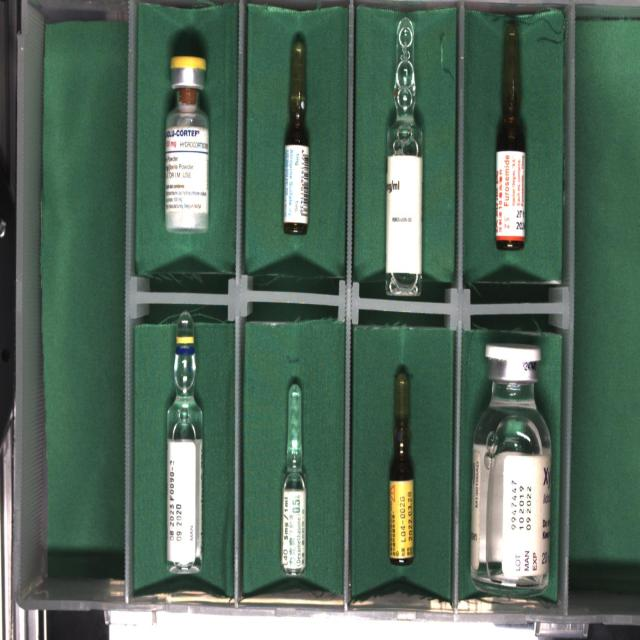Vials: (471, 343, 551, 589), (165, 55, 209, 231)
